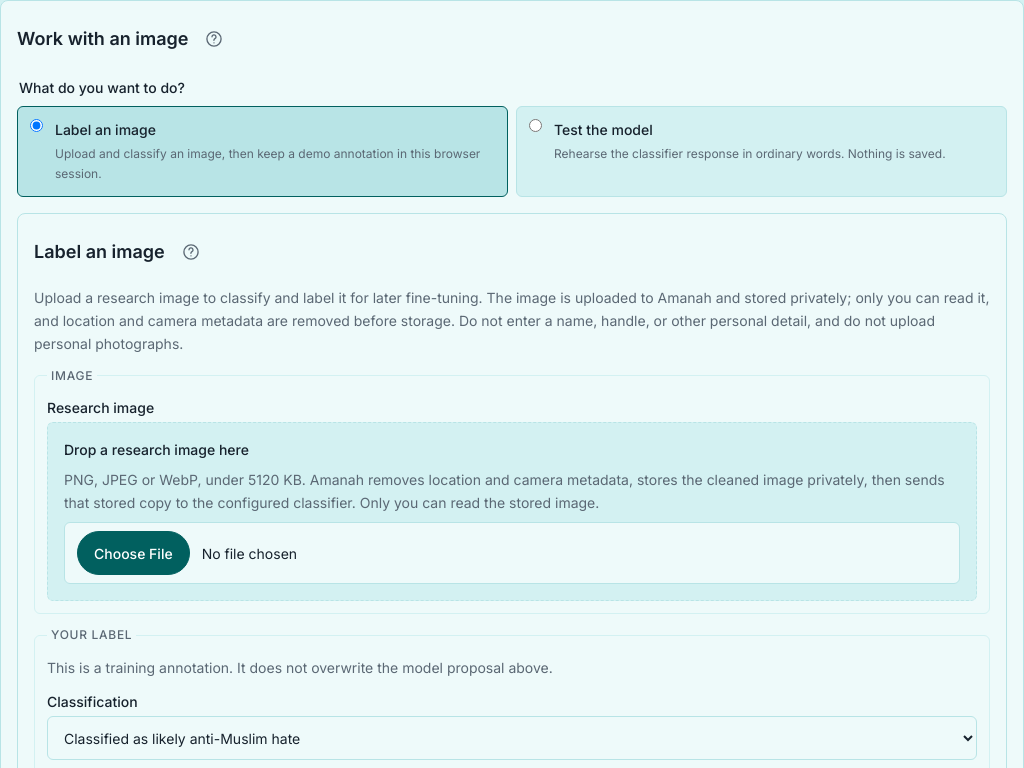
ImageWorkbench › switches to the test path and offers no label controls there
What coordinates should you click on to do the following:
click the radio button labelled "Test the model"
I would click on:
 (536, 126)
Its box is 529,119 -> 542,132.
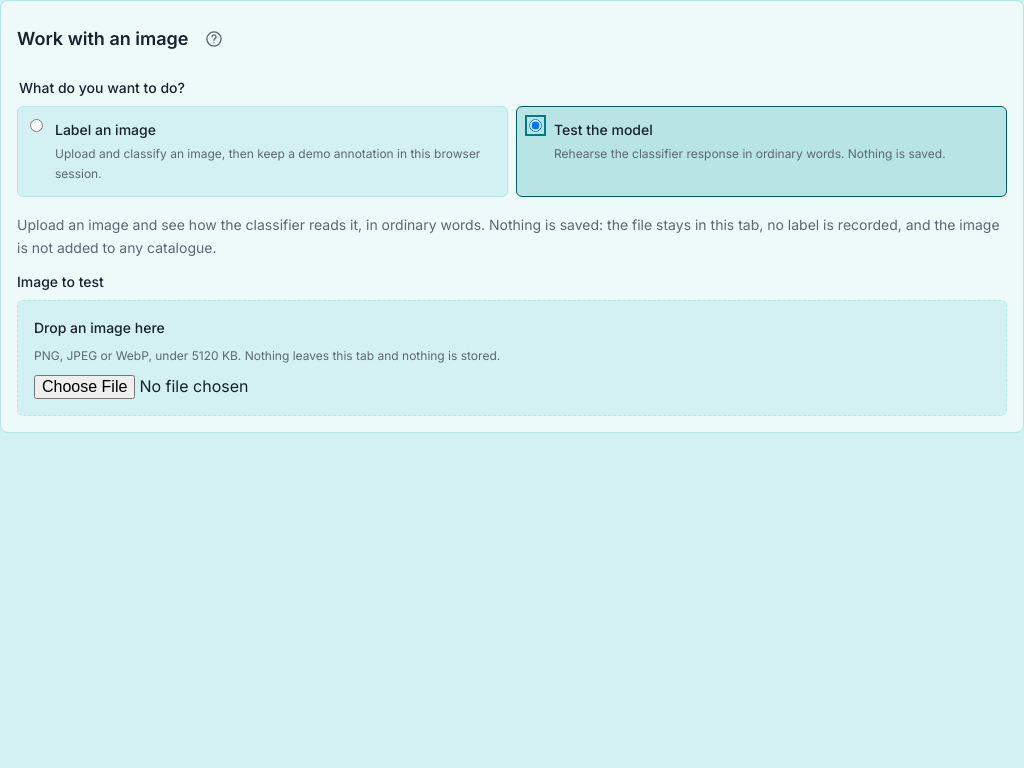
Now the file field labelled "Image to test" is shown, box 34,374 -> 990,399
Now the text labelled "research image" is gone
